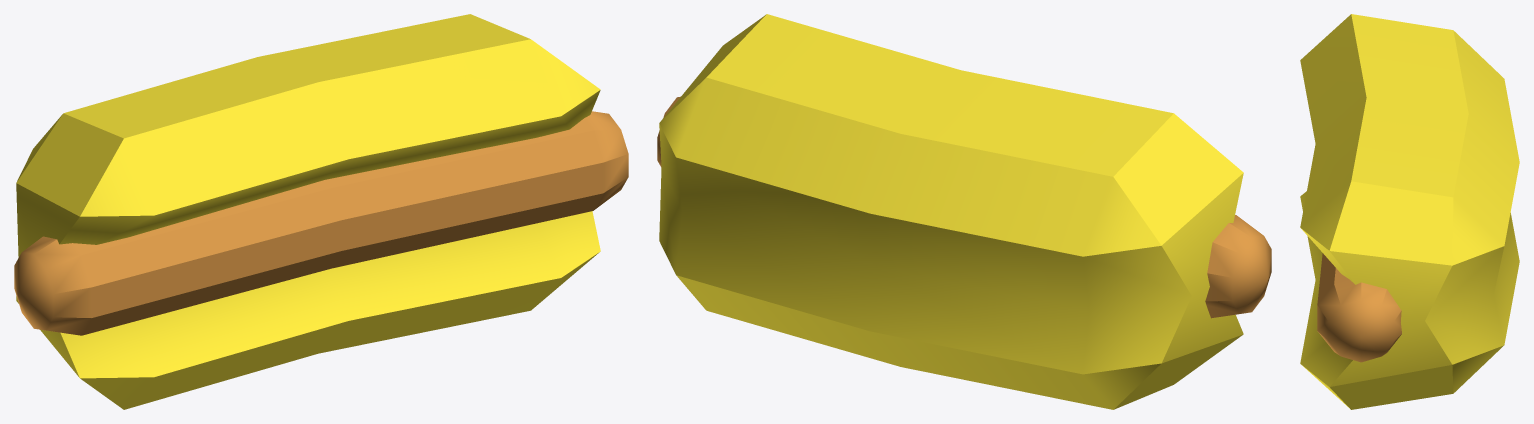
The model's file is bb371fea-fbd4-4116-b1d5-7d50052d0b9a.glb.
3 views of the same model, side by side, from view 1: azimuth 30°, elevation 25°; view 2: azimuth 150°, elevation 25°; view 3: azimuth 270°, elevation 25° (orthographic). The views are drawn at different scales.
Visible parts, largest first — view 1: pCylinder74; view 2: pCylinder74; view 3: pCylinder74.
Boxes of the visible parts, box(x1,y1,x2,y2) form: pCylinder74: box(14, 14, 628, 409); pCylinder74: box(657, 14, 1271, 409); pCylinder74: box(1300, 14, 1519, 409).
Bounding box in the file's own units: 262 × 112 × 97.48.
